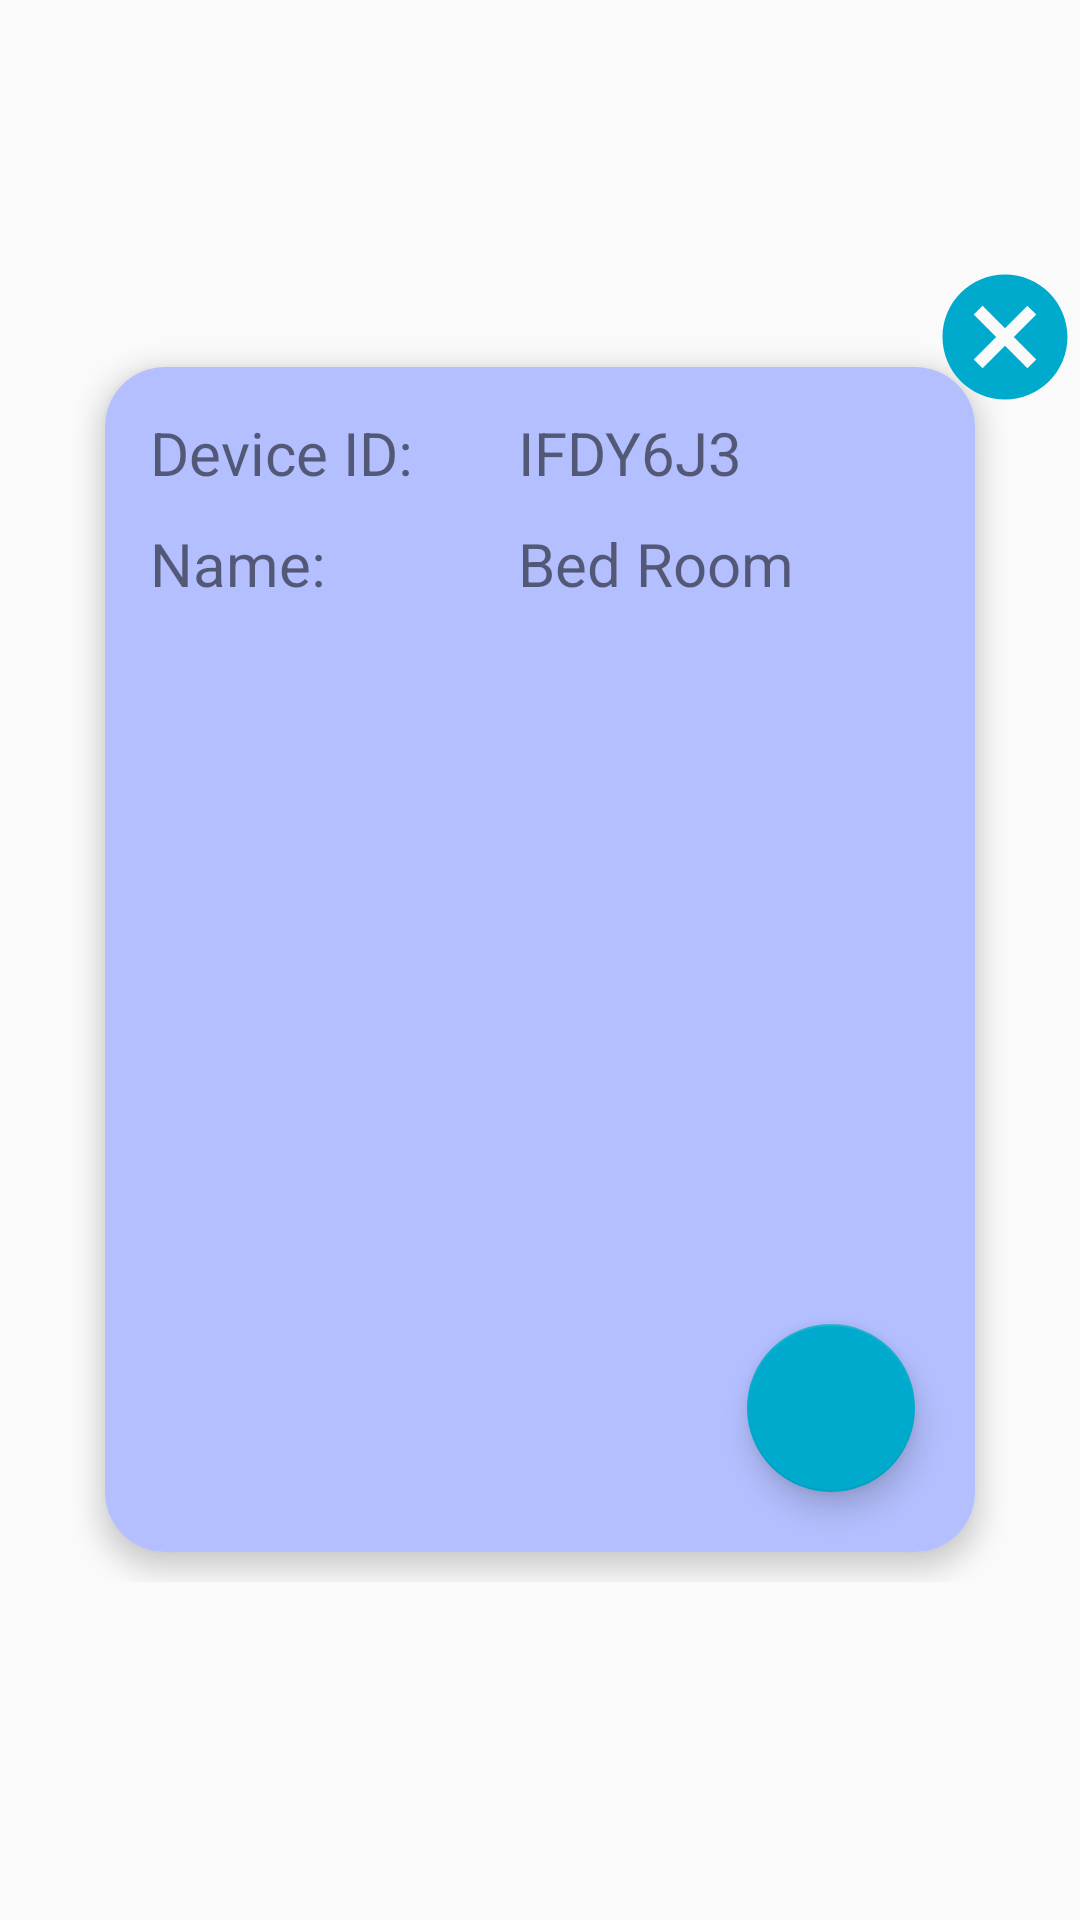

Icon bounding boxes for this 1080px×1920px phone screenshot, format (x1, y1, x2, y2):
cancel: (942, 274, 1068, 400)
